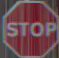Stop: (5, 3, 54, 51)
